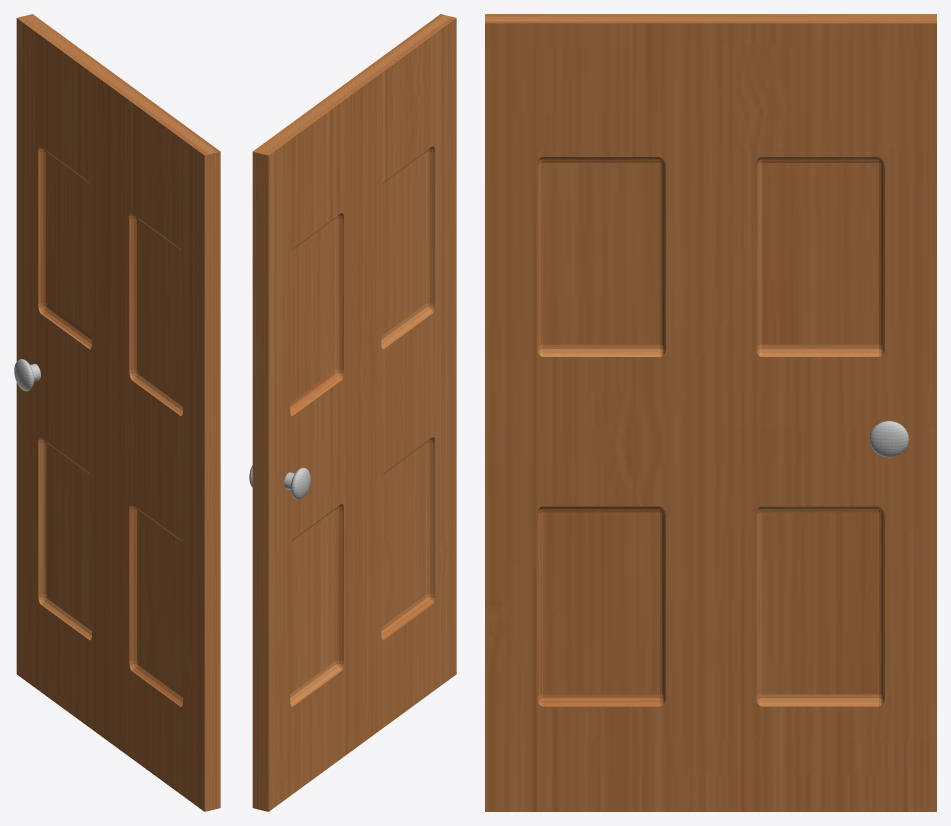
File: puerta.gltf
The picture shows the model from 3 angles, left to right: view 1: azimuth 30°, elevation 25°; view 2: azimuth 150°, elevation 25°; view 3: azimuth 270°, elevation 25°; orthographic projection. The views are drawn at different scales.
Parts seen in each view (by area): view 1: Cube, Sphere; view 2: Cube, Sphere; view 3: Cube, Sphere.
Part boxes in pixels (x1=…): Cube: x1=16, y1=14, x2=220, y2=811; Sphere: x1=14, y1=359, x2=40, y2=391; Cube: x1=252, y1=14, x2=456, y2=811; Sphere: x1=249, y1=465, x2=310, y2=499; Cube: x1=485, y1=14, x2=936, y2=811; Sphere: x1=869, y1=421, x2=908, y2=457.
Size of the model in its own units: 0.2634 by 3.12 by 1.62.
